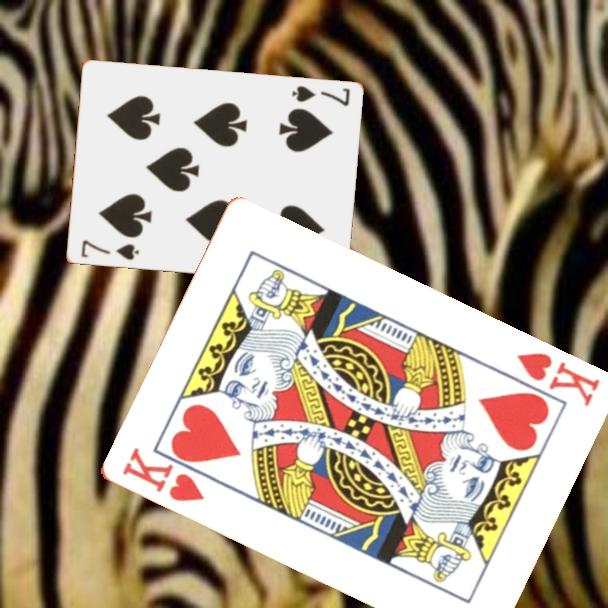h13: (117, 444, 208, 505), (512, 349, 603, 410)
s07: (77, 236, 141, 263), (288, 83, 352, 109)
